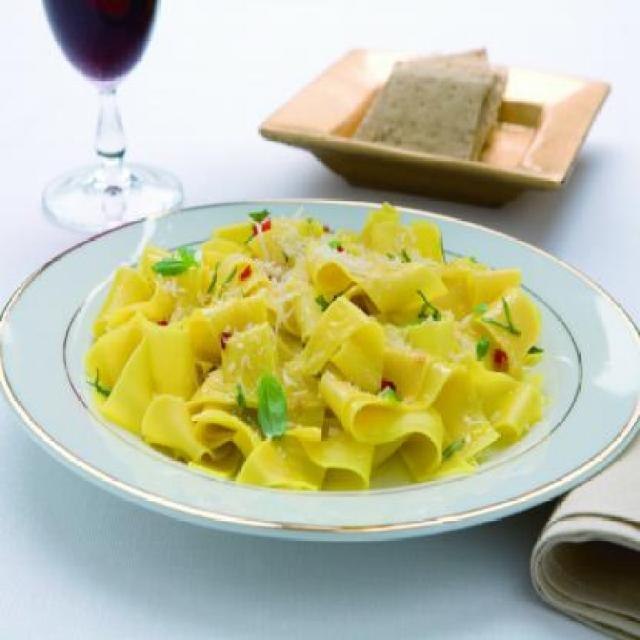Oil pasta: (48, 203, 624, 562)
